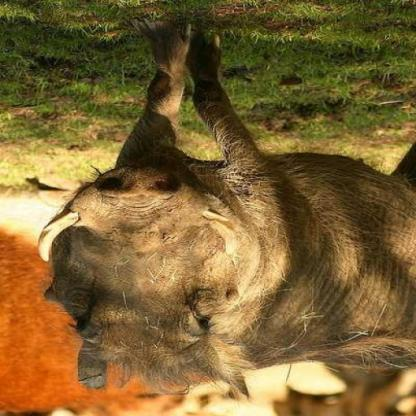boar: (36, 44, 415, 414)
